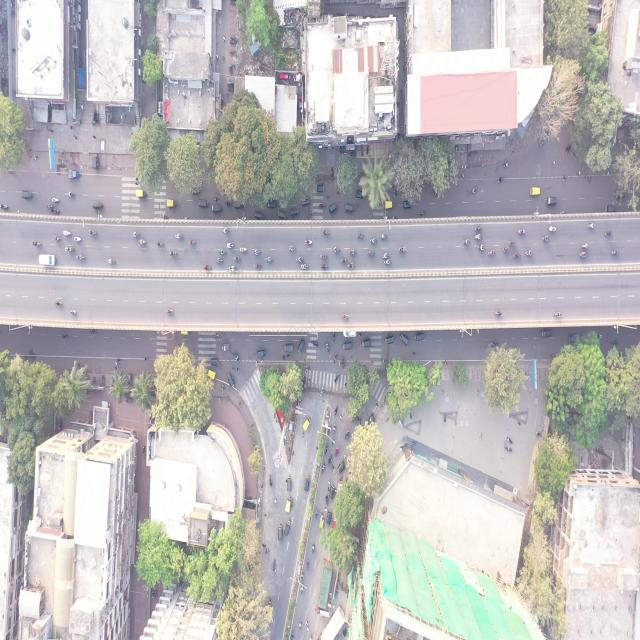M2W: (30, 238, 47, 248), (51, 235, 64, 248), (30, 238, 41, 250), (39, 245, 46, 251), (51, 210, 52, 219)
